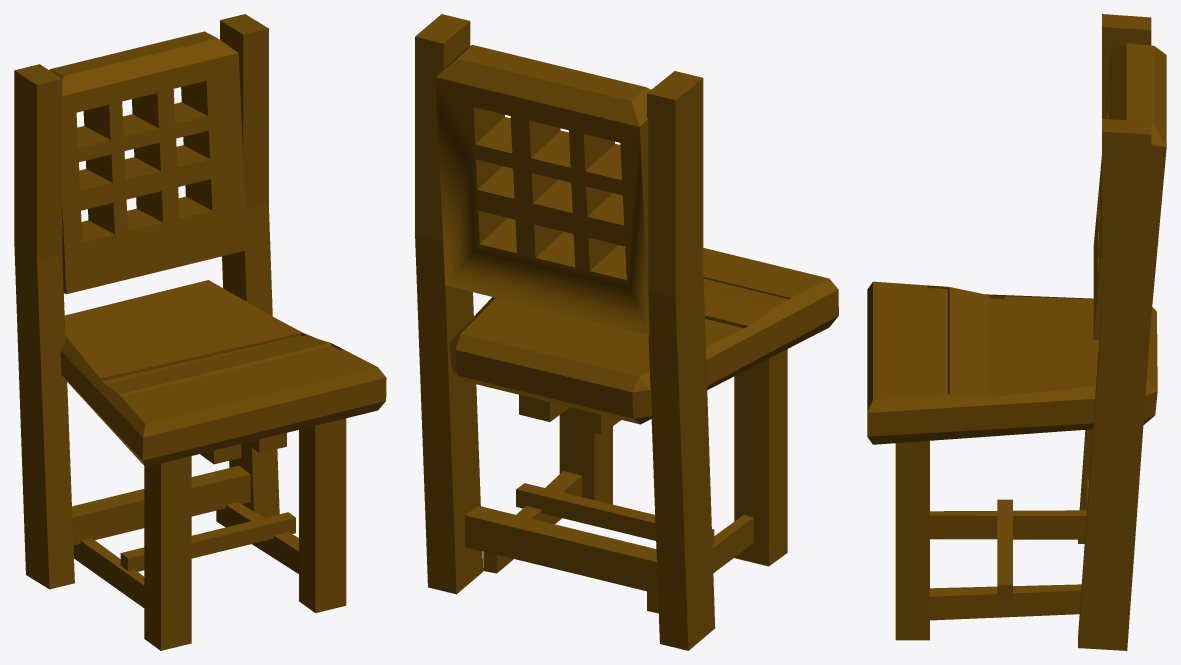
Rendered from Default Chair.fbx.
3 renders of one model, left to right at view 1: azimuth 30°, elevation 25°; view 2: azimuth 150°, elevation 25°; view 3: azimuth 270°, elevation 25°, orthographic. The views are drawn at different scales.
Visible parts, largest first — view 1: Chair1; view 2: Chair1; view 3: Chair1.
Boxes of the visible parts, x1,y1,x2,y2 form: Chair1: (14, 14, 386, 650); Chair1: (415, 14, 838, 650); Chair1: (867, 14, 1166, 650).
Size of the model in its own units: 1.99 by 3.89 by 2.03.
